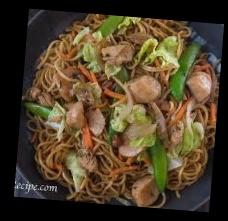pancit bihon: (33, 16, 226, 202)
